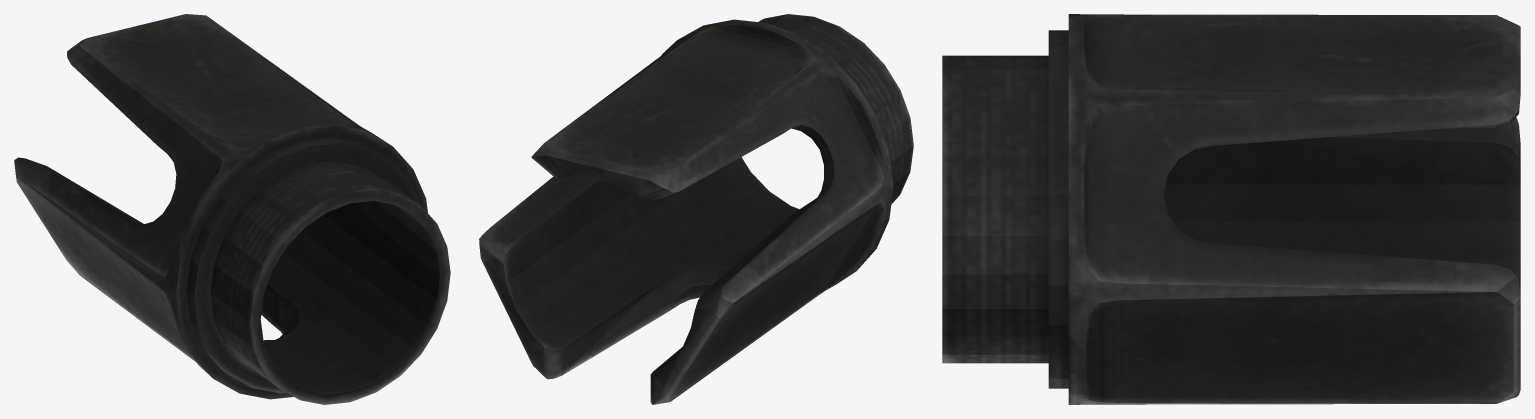
The picture shows the model from 3 angles, left to right: view 1: azimuth 30°, elevation 25°; view 2: azimuth 150°, elevation 25°; view 3: azimuth 270°, elevation 25°; orthographic projection. The views are drawn at different scales.
Visible parts, largest first — view 1: TW_5fbcbcf593164a5b6278efb2_PZ_Import; view 2: TW_5fbcbcf593164a5b6278efb2_PZ_Import; view 3: TW_5fbcbcf593164a5b6278efb2_PZ_Import.
Part boxes in pixels (box(x1,y1,x2,y2)): TW_5fbcbcf593164a5b6278efb2_PZ_Import: box(14, 14, 450, 404); TW_5fbcbcf593164a5b6278efb2_PZ_Import: box(479, 14, 913, 404); TW_5fbcbcf593164a5b6278efb2_PZ_Import: box(942, 14, 1520, 404).
Bounding box in the file's own units: 0.0136 × 0.02 × 0.0136.
1 material, 1 textured.
